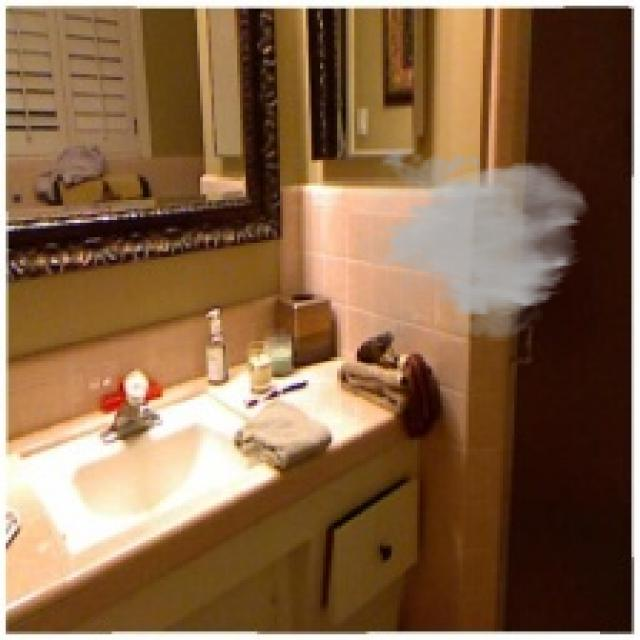smoke: (357, 140, 592, 346)
